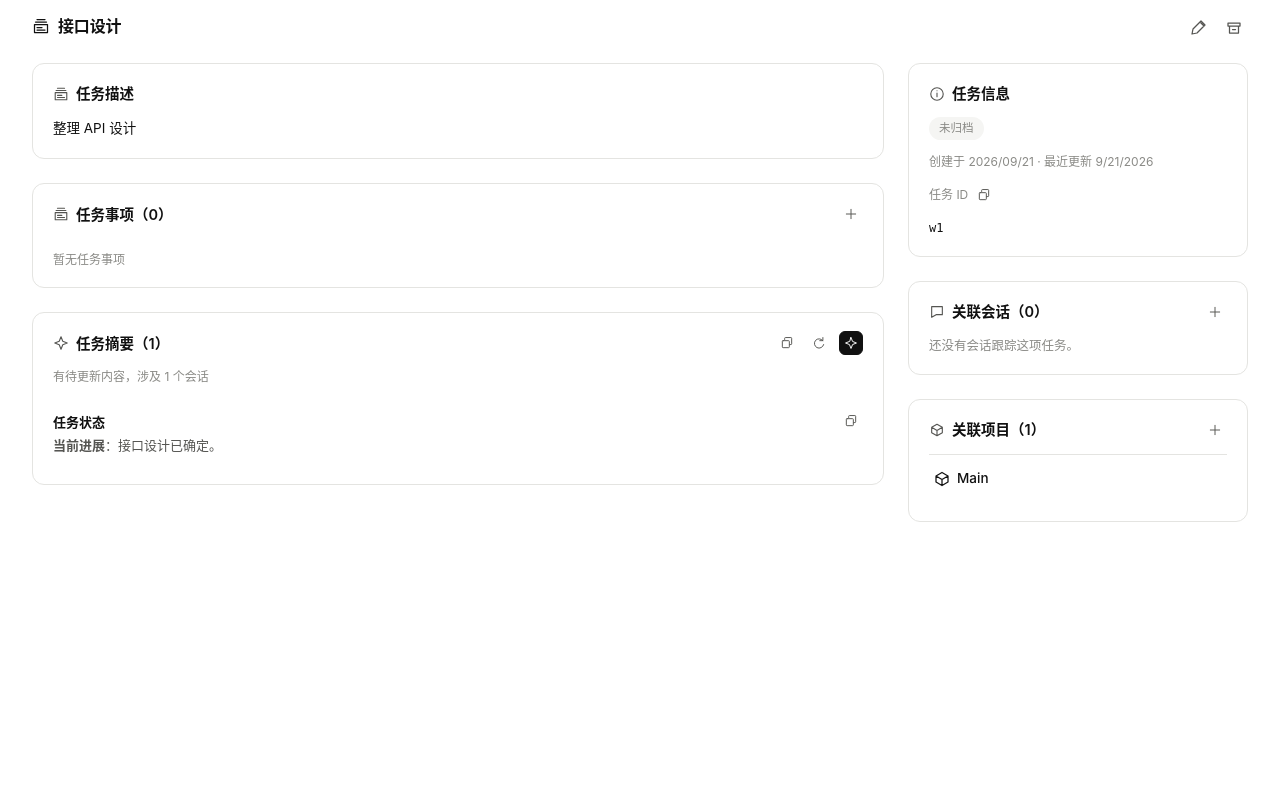
it: keeps the task summary visible and reports failed sessions after a partial update
Click the button named "更新摘要".
click(851, 343)  # box left=839, top=331, right=863, bottom=355
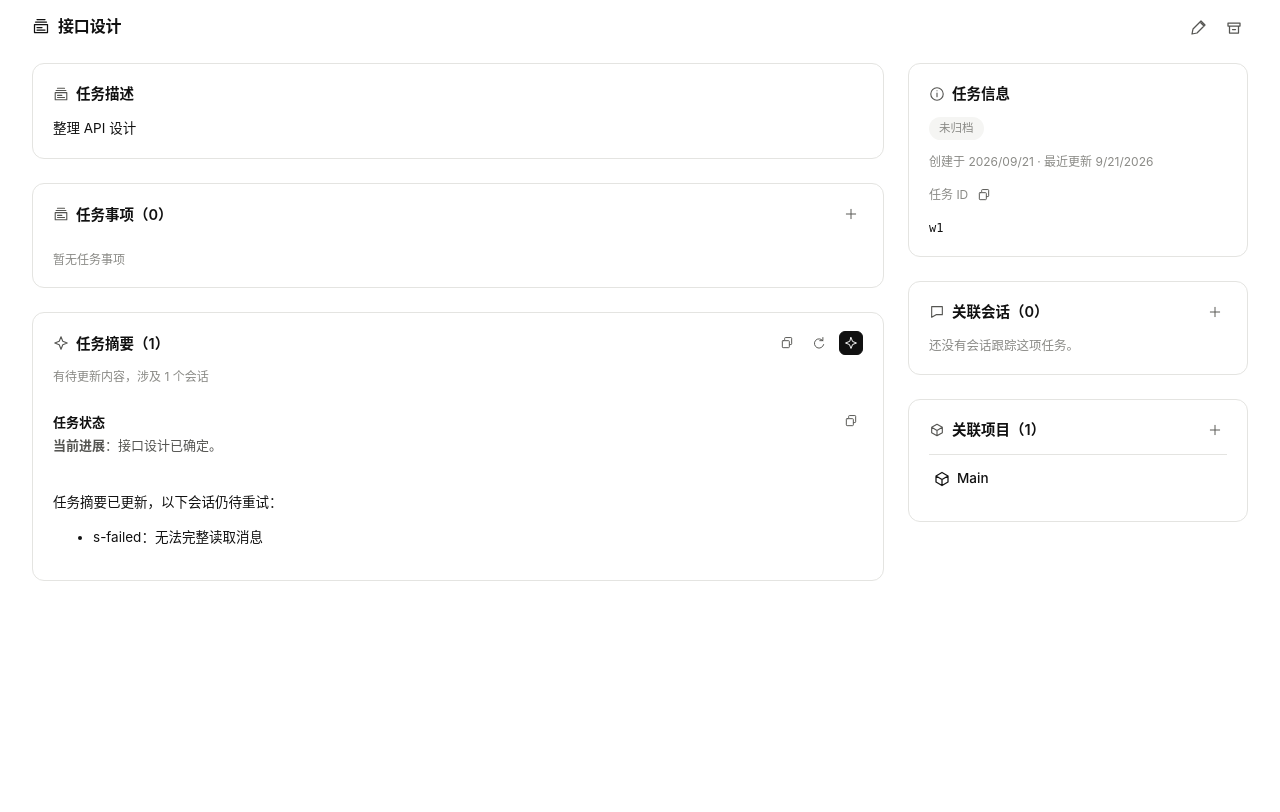
Check: the heading "任务摘要（1）" is shown, box left=53, top=332, right=169, bottom=355
Check: the list item "s-failed：无法完整读取消息" is shown, box left=93, top=529, right=263, bottom=545
